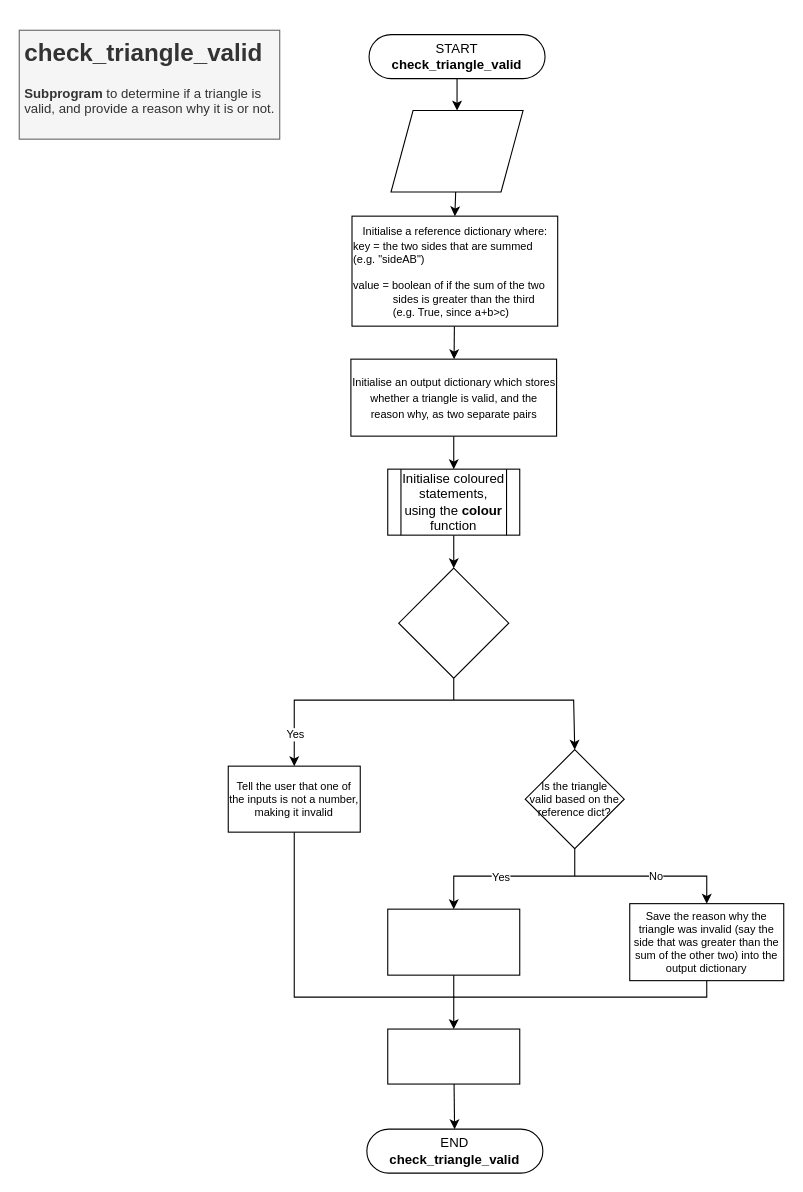
Some shapes in this 803 by 1192 pixel diagram are drawn without their labels. Here are the shapes that lost their labels. From the top down, the centre of each, then its label:
the point at 456,150: Get the three sides of the triangle, saved into a, b, c
the point at 453,622: Are any of the sides not stored as a number?
the point at 453,941: Save the reason why the triangle is valid into the output dictionary
the point at 453,1056: Return the output dictionary, containing whether the triangle is valid, and why
